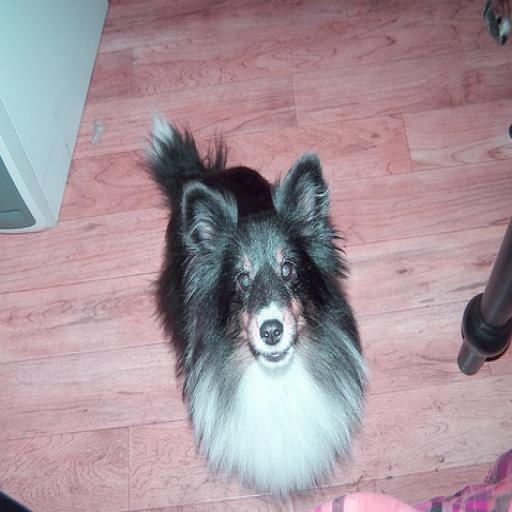dog_face: (175, 156, 346, 390)
